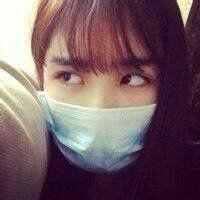WRONG: (44, 50, 168, 174)
